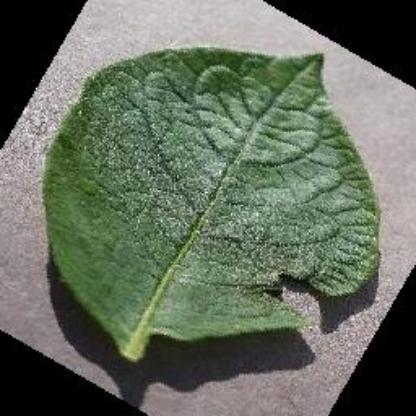Healthy-plant: (38, 41, 388, 362)
